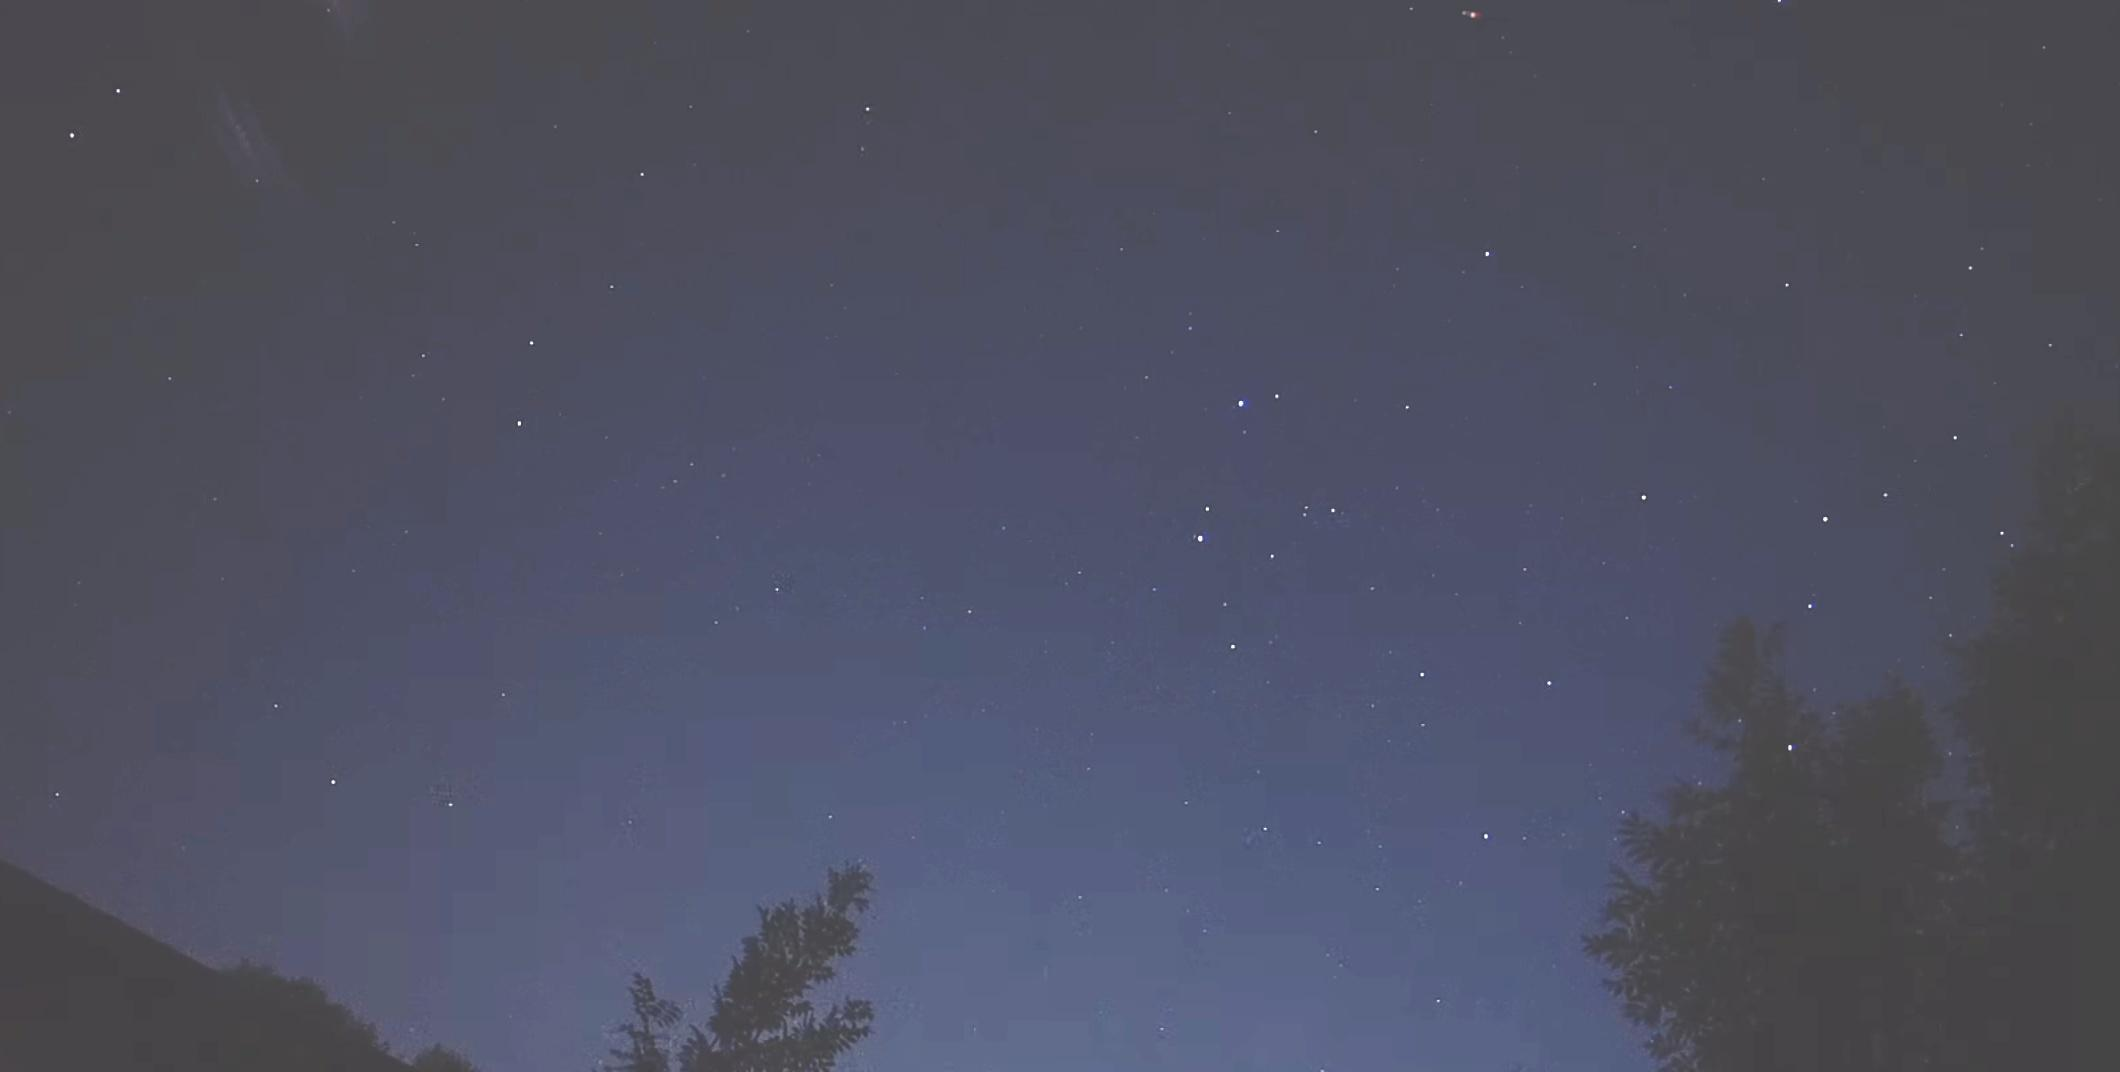Plane: (1443, 1, 1514, 30)
